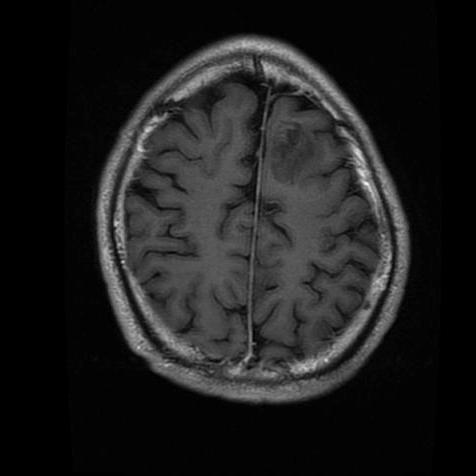Tumour-Glioma: (270, 119, 312, 192)
